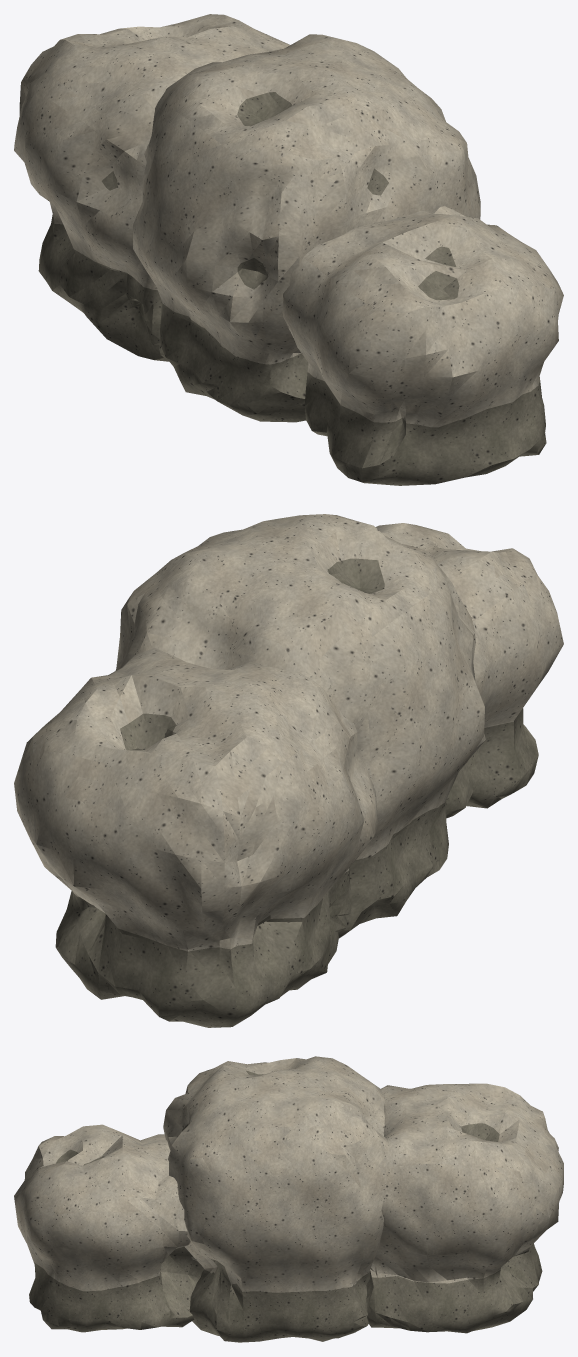
The picture shows the model from 3 angles, top to bottom: view 1: azimuth 30°, elevation 25°; view 2: azimuth 150°, elevation 25°; view 3: azimuth 270°, elevation 25°; orthographic projection. The views are drawn at different scales.
Parts seen in each view (by area): view 1: rock, rock_wet; view 2: rock, rock_wet; view 3: rock, rock_wet.
Part boxes in pixels (left/top/right/bottom): rock: left=14, top=14, right=563, bottom=427; rock_wet: left=38, top=92, right=546, bottom=485; rock: left=14, top=514, right=563, bottom=951; rock_wet: left=55, top=548, right=538, bottom=1027; rock: left=14, top=1056, right=563, bottom=1292; rock_wet: left=29, top=1070, right=542, bottom=1342.
Bounding box in the file's own units: 5.54 × 5.99 × 11.9.
Materials: 2 (2 with a texture image).
